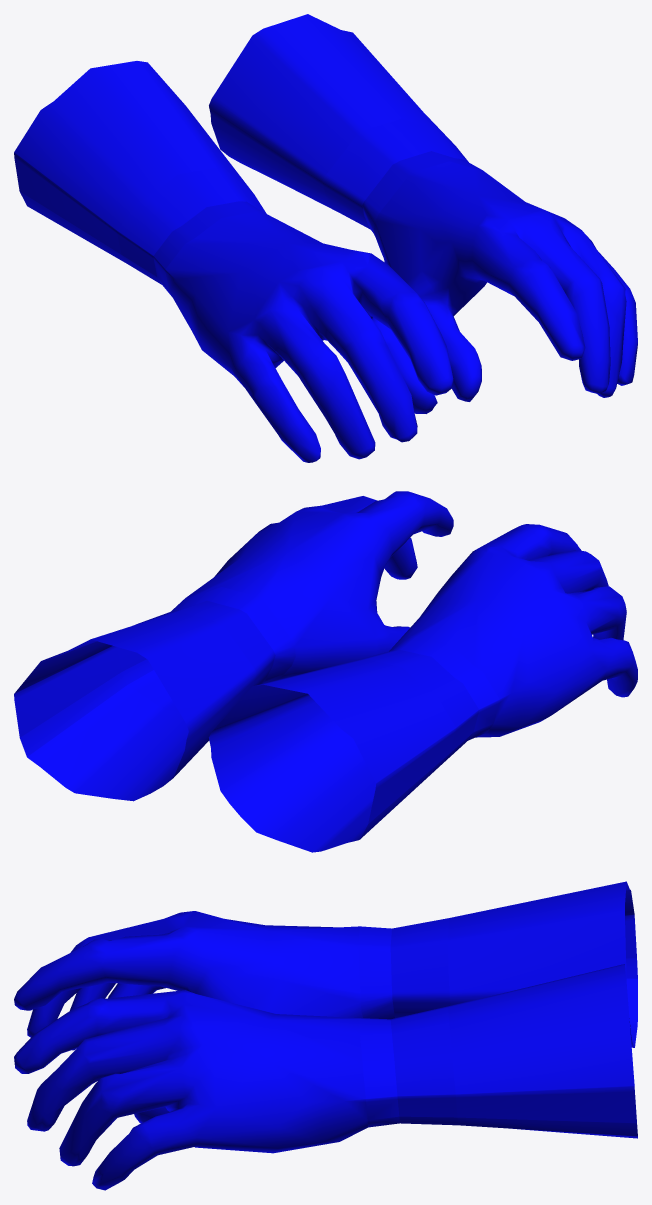
The model's file is gloves_draco.glb.
3 views of the same model, one above another, from view 1: azimuth 30°, elevation 25°; view 2: azimuth 150°, elevation 25°; view 3: azimuth 270°, elevation 25° (orthographic). The views are drawn at different scales.
Parts seen in each view (by area): view 1: object 1, Group#1; view 2: object 1, Group#1; view 3: Group#1, object 1.
Boxes of the visible parts, left/top/right/bottom form: object 1: left=14, top=61, right=453, bottom=462; Group#1: left=209, top=14, right=637, bottom=401; object 1: left=209, top=524, right=637, bottom=852; Group#1: left=14, top=491, right=453, bottom=801; Group#1: left=14, top=964, right=637, bottom=1190; object 1: left=14, top=881, right=637, bottom=1050.
Size of the model in its own units: 0.2066 by 0.0971 by 0.2987.
